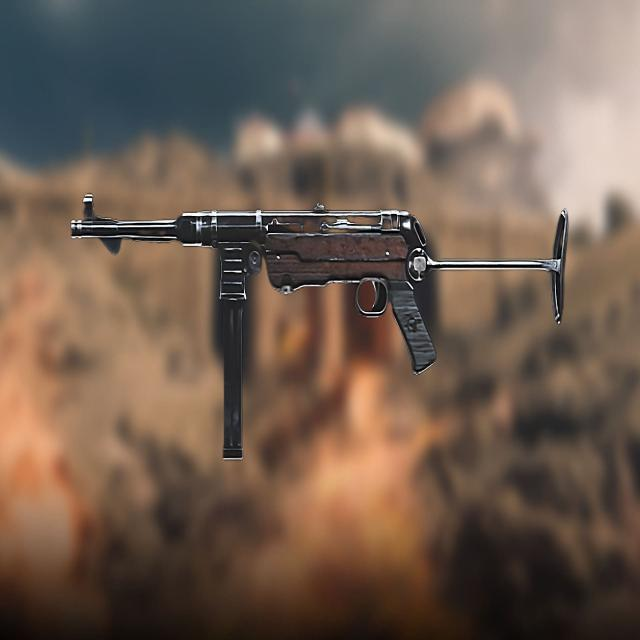SMG: (71, 196, 561, 461)
